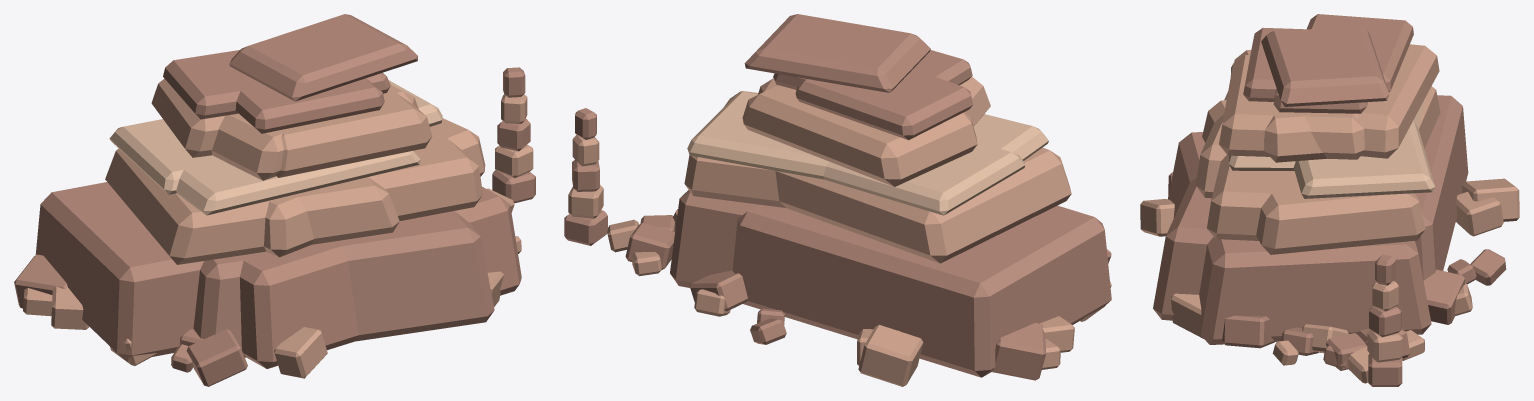
The model's file is yard_mesa.glb.
3 renders of one model, left to right at view 1: azimuth 30°, elevation 25°; view 2: azimuth 150°, elevation 25°; view 3: azimuth 270°, elevation 25°, orthographic. The views are drawn at different scales.
Parts seen in each view (by area): view 1: mesadark, mesa, mesapale; view 2: mesadark, mesa, mesapale; view 3: mesadark, mesa, mesapale.
Part boxes in pixels (bbox=[...]): mesadark: bbox=[14, 14, 535, 386]; mesa: bbox=[23, 78, 533, 378]; mesapale: bbox=[109, 80, 442, 215]; mesadark: bbox=[564, 14, 1111, 380]; mesa: bbox=[568, 77, 1111, 386]; mesapale: bbox=[687, 91, 1048, 215]; mesadark: bbox=[1153, 14, 1506, 386]; mesa: bbox=[1140, 44, 1519, 383]; mesapale: bbox=[1229, 64, 1435, 198].
Size of the model in its own units: 81.94 by 38.16 by 55.61.
